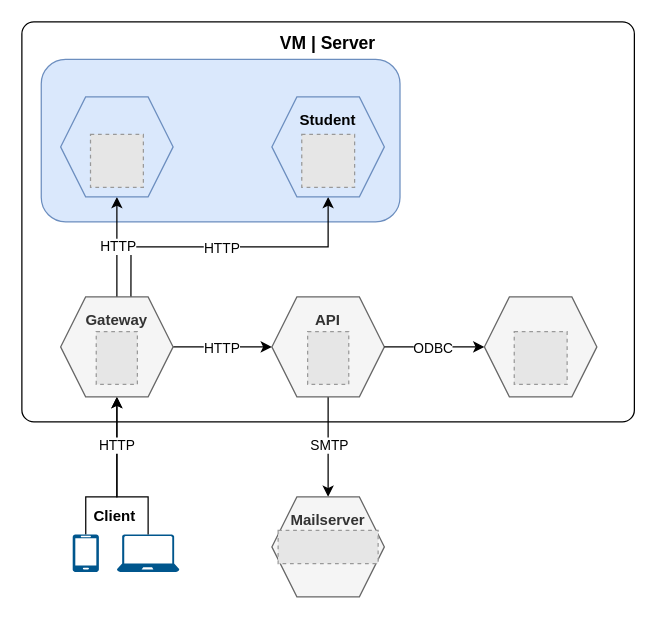
The diagram is 656 pixels wide and 620 high, and some of its shapes have lost their labels. Grey dashed boxes stand in for pictures. Each missing label, with the box of its shape:
Admin: (59, 96, 173, 197)
Apache Webserver: (40, 58, 400, 222)
Database: (483, 296, 597, 397)
